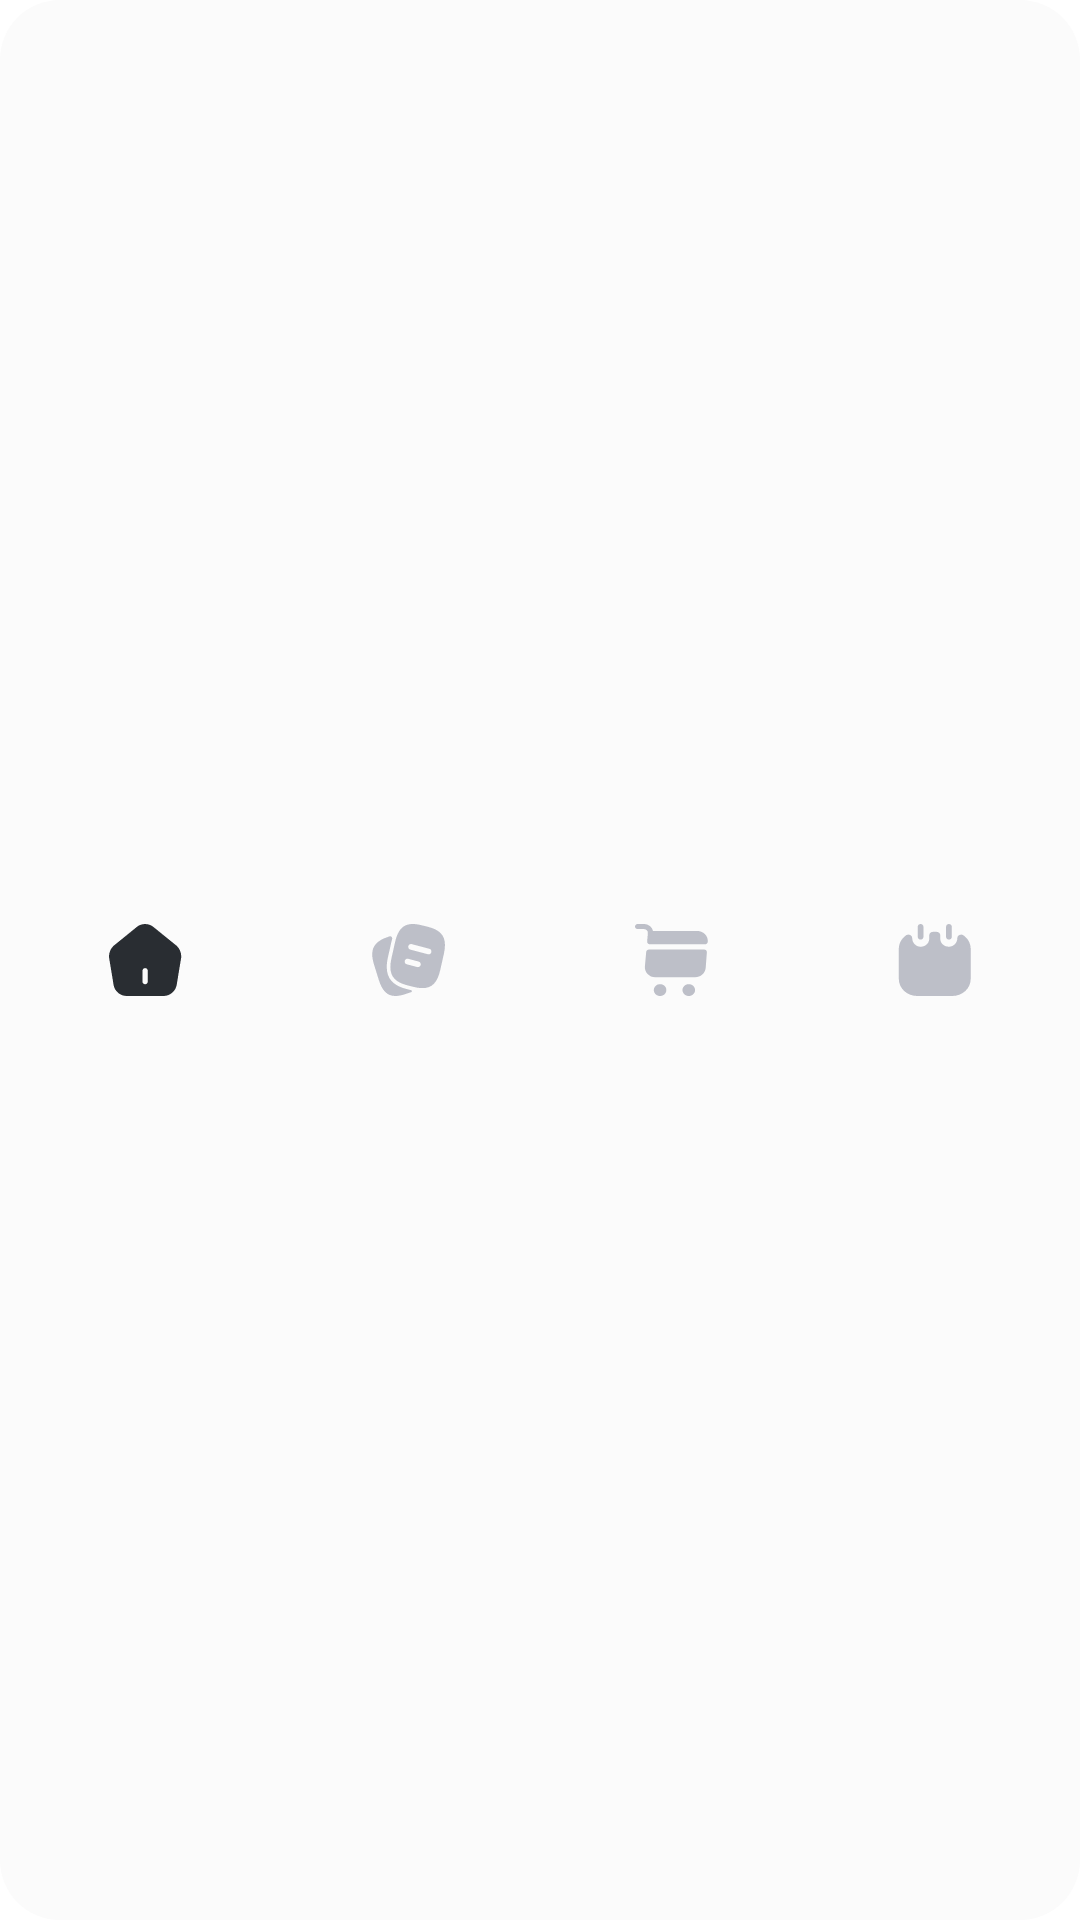

Where to tap for icons on this 1080px×1920px app screen, as point (x, y):
calendar: point (935, 960)
mainpage: point (145, 960)
shoplist: point (671, 960)
todolist: point (408, 960)
